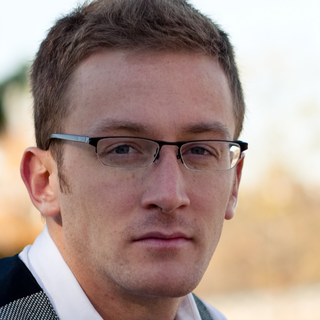eye: (97, 135, 150, 167), (171, 139, 222, 166)
